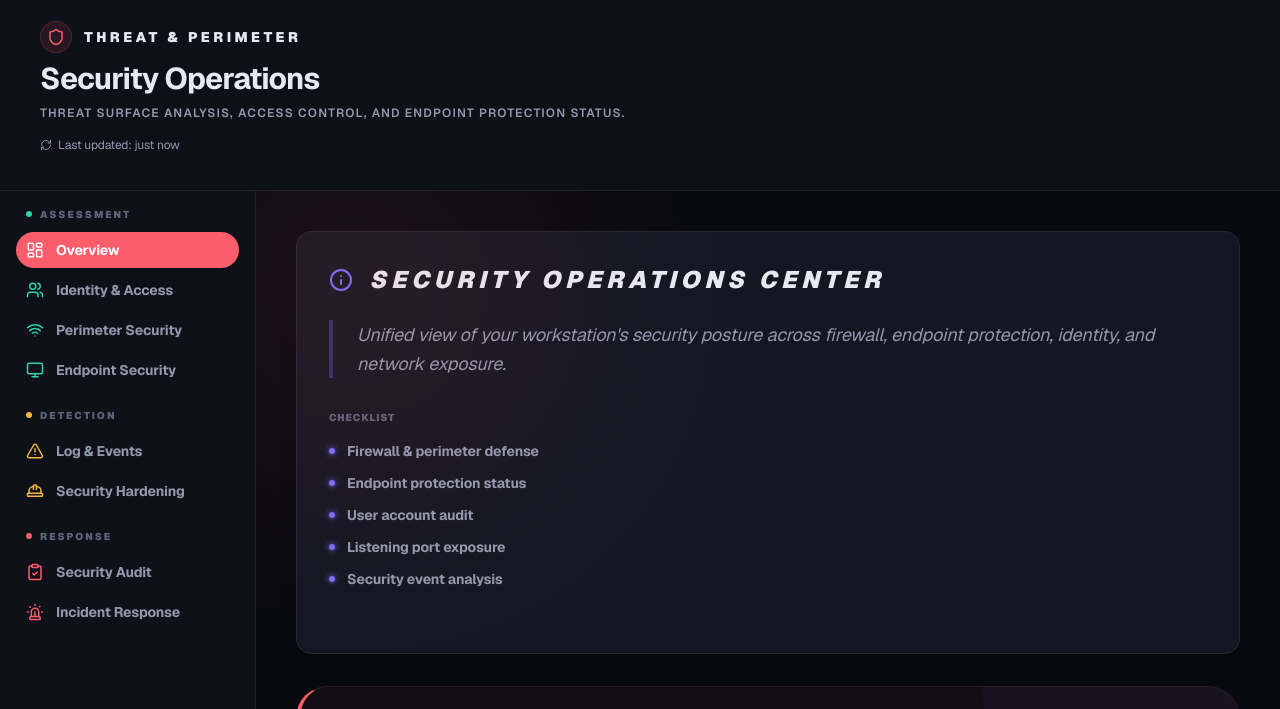
Test case: SecOps Page › navigates to Security Audit sidebar category
The image size is (1280, 709).
What coordinates should you click on to do the following:
click the button "Security Audit"
I would click on:
 (128, 572)
Its box is [16,554,239,590].
(page scrolled)
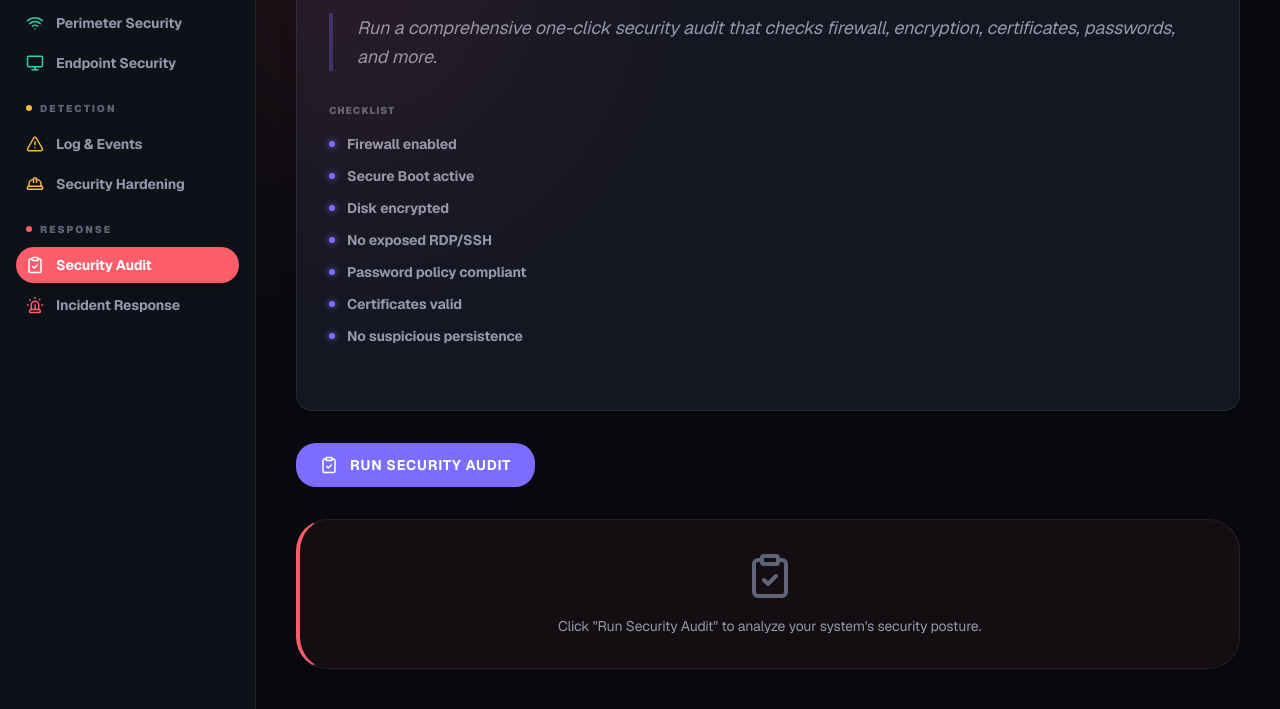
Expected: the button "Run Security Audit" is shown, [296,443,535,487]
